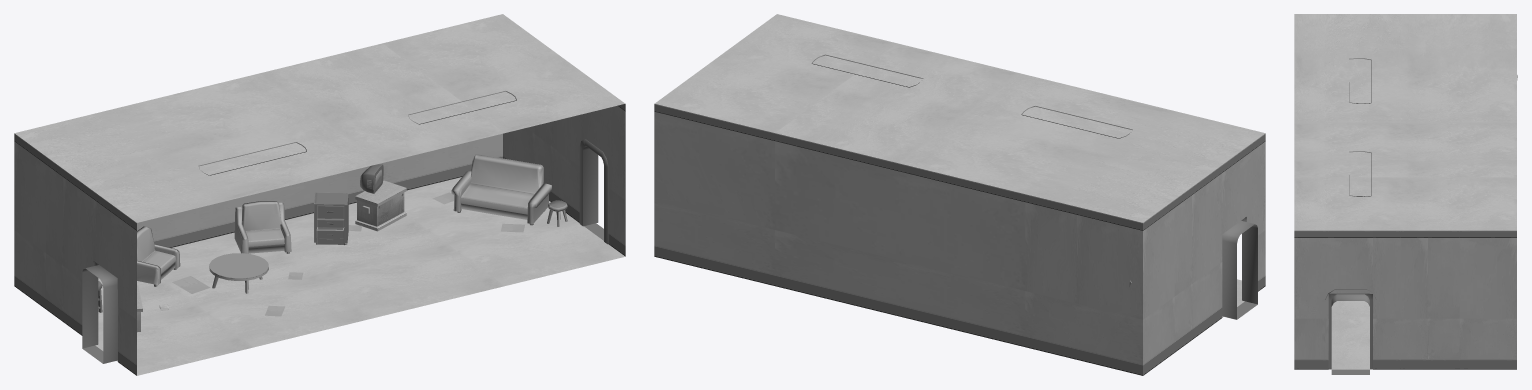
The model's file is MSH_QuestIndustrial_L5_R2_optimized.fbx.
3 views of the same model, side by side, from view 1: azimuth 30°, elevation 25°; view 2: azimuth 150°, elevation 25°; view 3: azimuth 270°, elevation 25° (orthographic). The views are drawn at different scales.
Parts seen in each view (by area): view 1: lightmap2, lightmap1, lightmap0, MSH_QuestIndustrial_L5_R2_Papers_01; view 2: lightmap1, lightmap2, lightmap0; view 3: lightmap2, lightmap1, lightmap0.
Boxes of the visible parts, x1=… form: lightmap2: x1=14, y1=14, x2=625, y2=375; lightmap1: x1=14, y1=104, x2=625, y2=375; lightmap0: x1=82, y1=91, x2=608, y2=363; MSH_QuestIndustrial_L5_R2_Papers_01: x1=172, y1=192, x2=524, y2=316; lightmap1: x1=654, y1=104, x2=1265, y2=375; lightmap2: x1=654, y1=14, x2=1265, y2=317; lightmap0: x1=811, y1=54, x2=1257, y2=319; lightmap2: x1=1294, y1=14, x2=1516, y2=369; lightmap1: x1=1294, y1=75, x2=1517, y2=369; lightmap0: x1=1325, y1=58, x2=1375, y2=374.
Size of the model in its own units: 20.7 by 6.08 by 8.55.
Materials: 3 (3 with a texture image).
